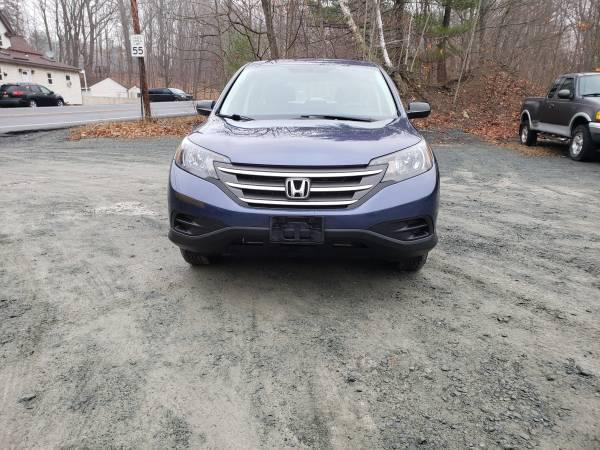Front_Bumper: (167, 160, 439, 259)
Front_Windshield: (214, 61, 400, 120)
Grille: (214, 163, 387, 210)
Hood: (188, 117, 420, 166)
Left_Headlight: (366, 136, 431, 184)
Left_Mirror: (409, 101, 432, 121)
Right_Headlight: (173, 138, 230, 181)
Right_Mirror: (194, 100, 212, 115)
